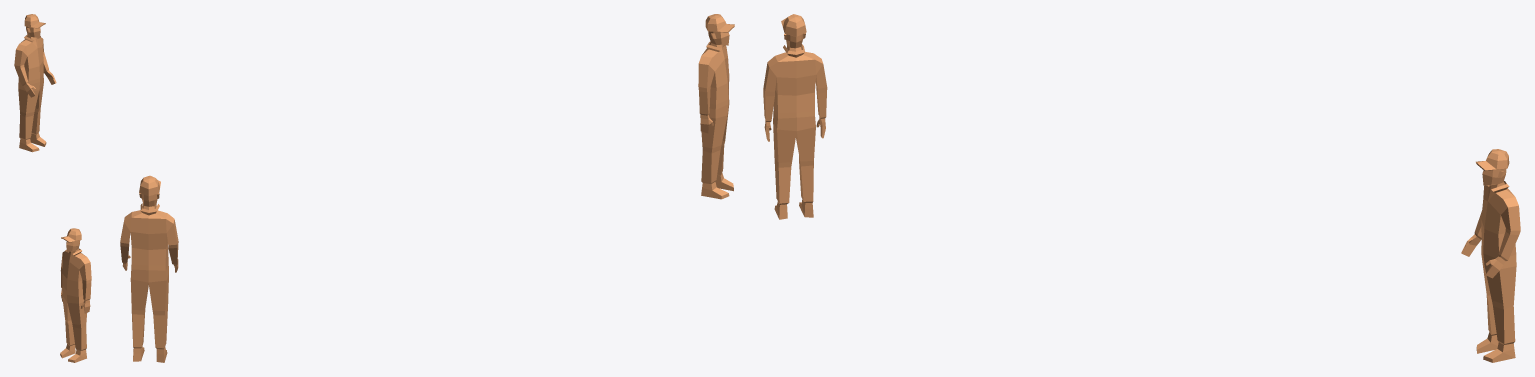
The model's file is fishermen.fbx.
3 views of the same model, side by side, from view 1: azimuth 30°, elevation 25°; view 2: azimuth 150°, elevation 25°; view 3: azimuth 270°, elevation 25° (orthographic). The views are drawn at different scales.
Parts seen in each view (by area): view 1: fishermen; view 2: fishermen; view 3: fishermen.
Part boxes in pixels (x1,y1,x2,y2): fishermen: [14, 14, 91, 362]; fishermen: [120, 14, 734, 362]; fishermen: [763, 14, 1520, 362].
Size of the model in its own units: 3.03 by 1.74 by 5.91.
